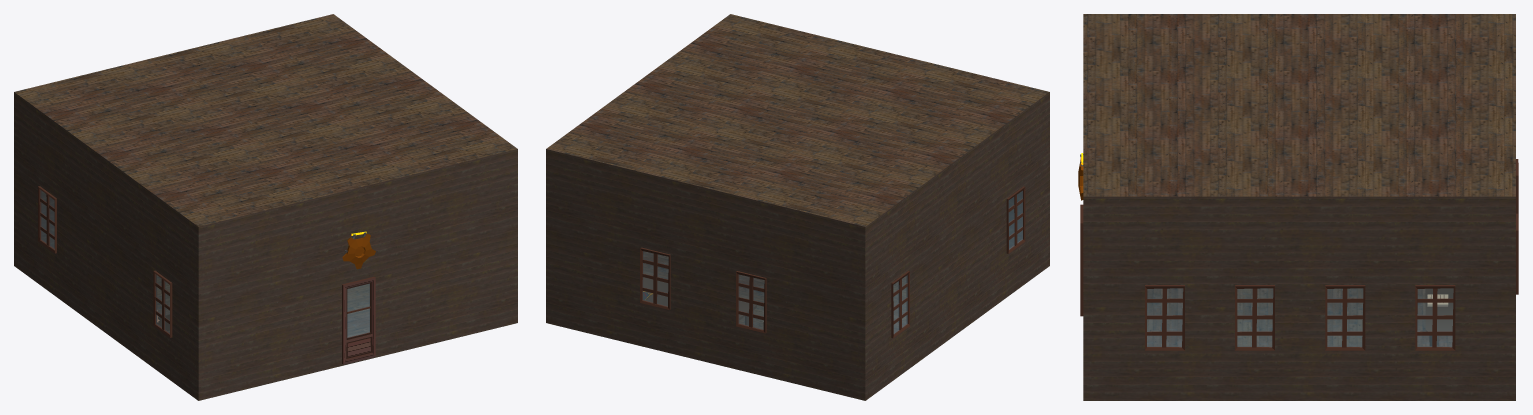
The model's file is house.glb.
The picture shows the model from 3 angles, left to right: view 1: azimuth 30°, elevation 25°; view 2: azimuth 150°, elevation 25°; view 3: azimuth 270°, elevation 25°; orthographic projection. The views are drawn at different scales.
Visible parts, largest first — view 1: house, Door 8A, Window 2x4 glass panel.004, Window 2x4 glass panel.007, WallClock; view 2: house, Window 2x4 glass panel.005, Window 2x4 glass panel.006, Window 2x4 glass panel.004, Window 2x4 glass panel.007, Table 2; view 3: house, Window 2x4 glass panel.003, Window 2x4 glass panel.002, Window 2x4 glass panel, Window 2x4 glass panel.001, Table 2, Door 8A.
Part boxes in pixels (x1,y1,x2,y2): house: [14, 14, 517, 400]; Door 8A: [342, 276, 375, 364]; Window 2x4 glass panel.004: [153, 270, 172, 337]; Window 2x4 glass panel.007: [38, 186, 56, 253]; WallClock: [342, 231, 375, 269]; house: [546, 14, 1049, 400]; Window 2x4 glass panel.005: [736, 271, 766, 333]; Window 2x4 glass panel.006: [640, 247, 670, 309]; Window 2x4 glass panel.004: [1006, 186, 1025, 253]; Window 2x4 glass panel.007: [891, 271, 909, 338]; Table 2: [643, 277, 756, 325]; house: [1083, 14, 1515, 400]; Window 2x4 glass panel.003: [1415, 285, 1455, 350]; Window 2x4 glass panel.002: [1325, 285, 1365, 350]; Window 2x4 glass panel: [1145, 285, 1184, 350]; Window 2x4 glass panel.001: [1235, 285, 1274, 350]; Table 2: [1425, 288, 1453, 346]; Door 8A: [1080, 204, 1083, 316].
Size of what is drawn, in the model's own units: 9.73 by 5.01 by 9.77.
Materials: 28 (27 with a texture image).
